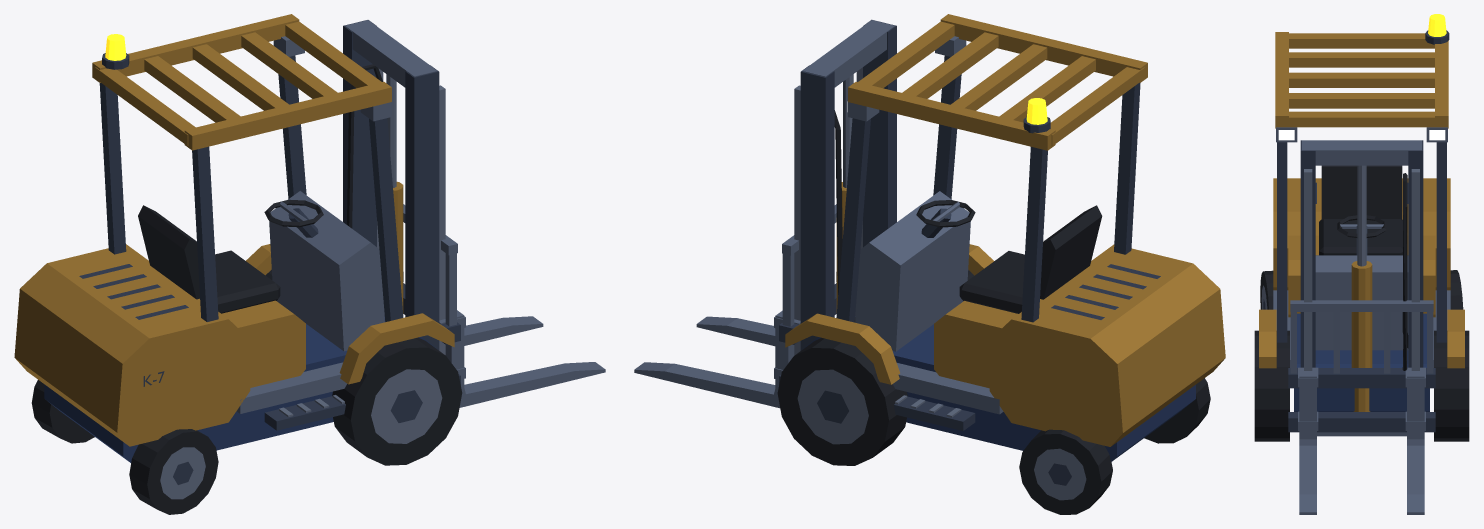
File: wh_forklift.glb
3 renders of one model, left to right at view 1: azimuth 30°, elevation 25°; view 2: azimuth 150°, elevation 25°; view 3: azimuth 270°, elevation 25°, orthographic. The views are drawn at different scales.
Visible parts, largest first — view 1: canopy_rail, beacon_plinth, backrest_bar, hydraulic_line, disc, chassis; view 2: canopy_rail, beacon_plinth, backrest_bar, hydraulic_line, disc, chassis; view 3: canopy_rail, backrest_bar, hydraulic_line, beacon_plinth, disc, chassis, beacon, headlamp.
Boxes of the visible parts, x1,y1,x2,y2 form: canopy_rail: (14, 14, 454, 446); beacon_plinth: (79, 20, 460, 484); backrest_bar: (236, 20, 605, 413); hydraulic_line: (31, 64, 462, 514); disc: (160, 68, 445, 499); chassis: (44, 317, 437, 462); canopy_rail: (785, 14, 1225, 446); beacon_plinth: (779, 19, 1160, 485); backrest_bar: (634, 20, 1003, 414); hydraulic_line: (777, 110, 1210, 514); disc: (794, 67, 1086, 500); chassis: (802, 316, 1195, 461); canopy_rail: (1259, 32, 1464, 411); backrest_bar: (1273, 127, 1450, 514); hydraulic_line: (1254, 165, 1469, 441); beacon_plinth: (1263, 30, 1449, 432); disc: (1261, 165, 1419, 370); chassis: (1294, 313, 1429, 411); beacon: (1428, 14, 1446, 36); headlamp: (1278, 130, 1445, 140).
Size of the model in its own units: 2.8 by 2.1 by 1.2.
